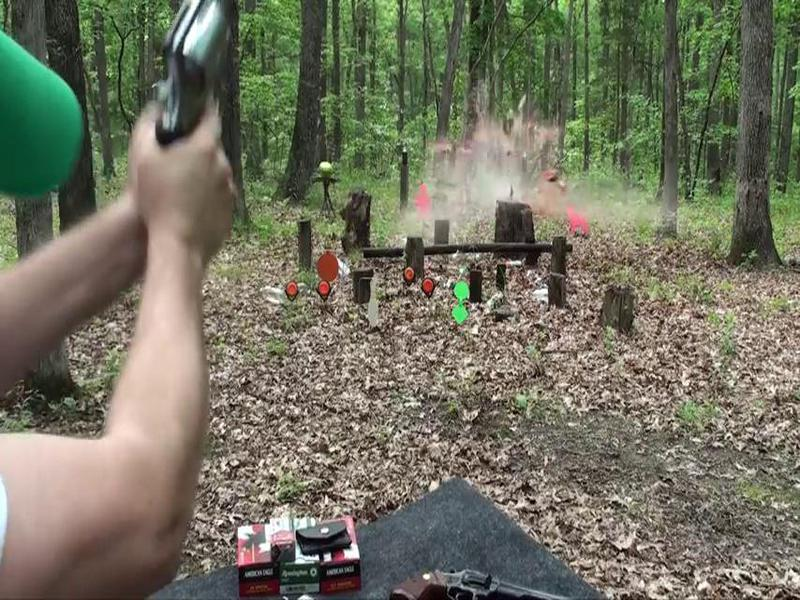Revolver: (133, 1, 275, 201)
